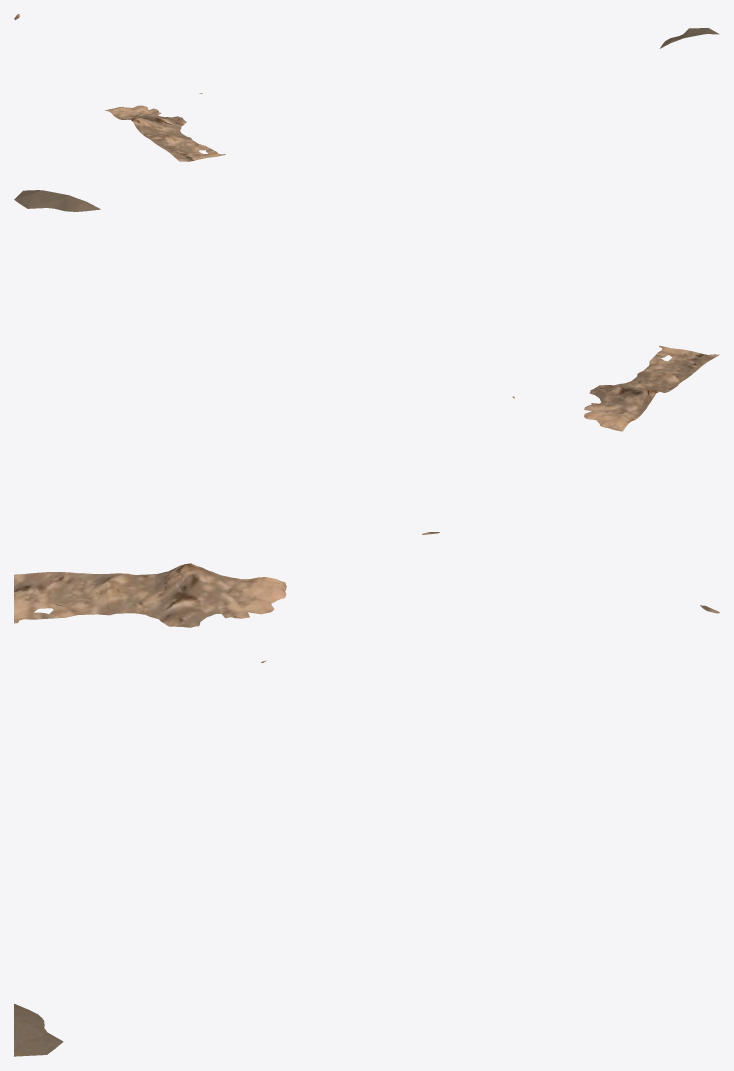
3 views of the same model, one above another, from view 1: azimuth 30°, elevation 25°; view 2: azimuth 150°, elevation 25°; view 3: azimuth 270°, elevation 25° (orthographic). The views are drawn at different scales.
Bounding box in the file's own units: 0.9748 × 0.0195 × 0.6134.
1 material, 1 textured.
